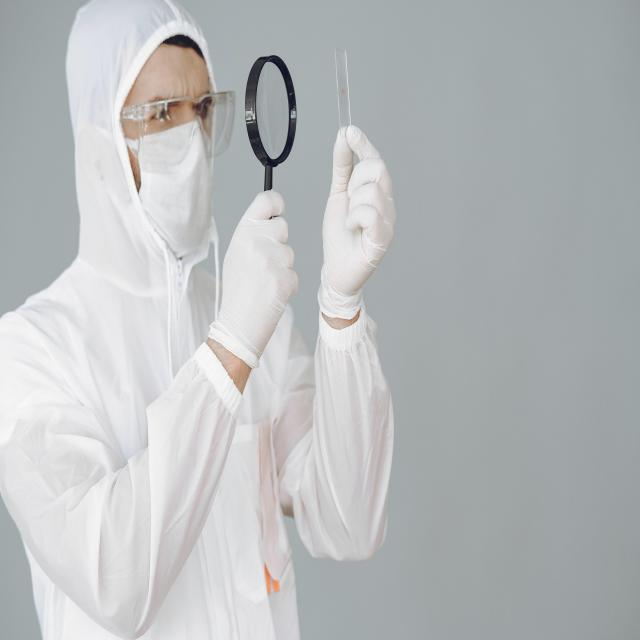Gloves: (315, 123, 404, 324), (213, 181, 300, 374)
Mask: (135, 119, 221, 258)
